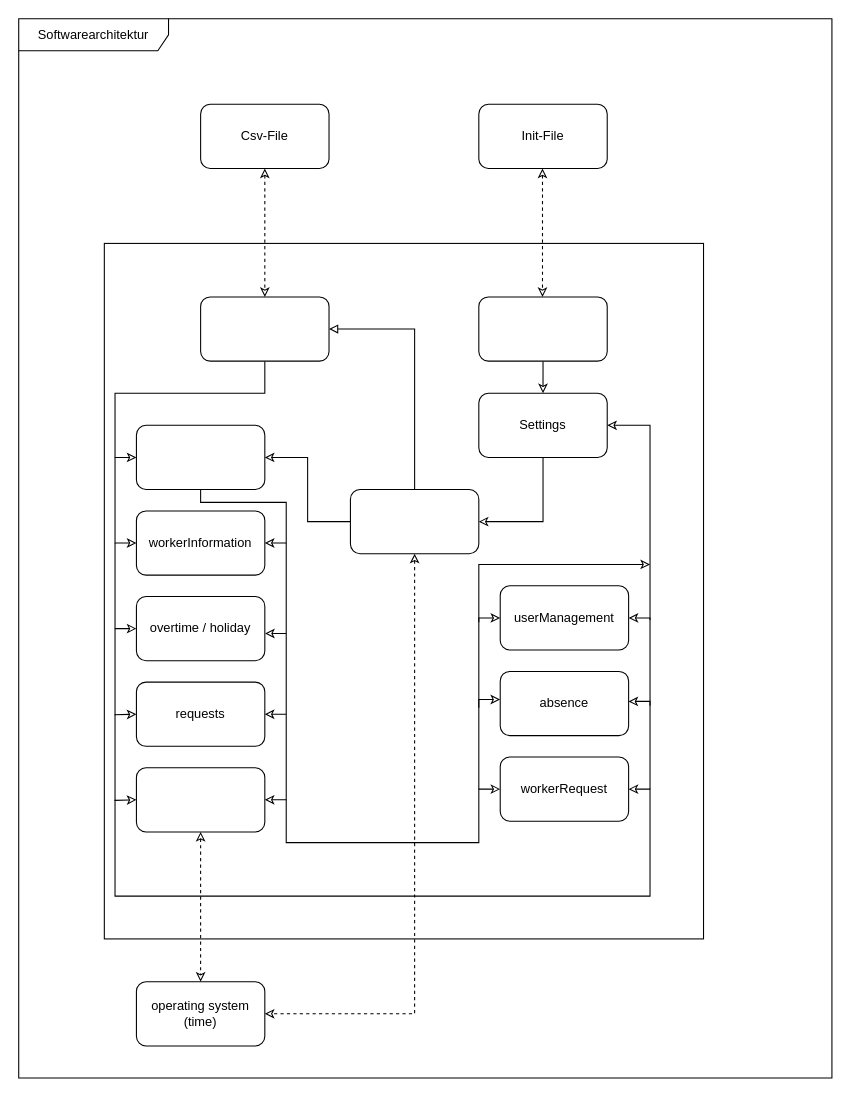
This 851x1097 diagram has some shape labels left out. Each missing label, with the centre of its shape:
ini-Handler: [542,328]
LogIn: [200,457]
Main Window: [414,521]
ProcessingCSV: [264,328]
Time Detection: [200,799]
